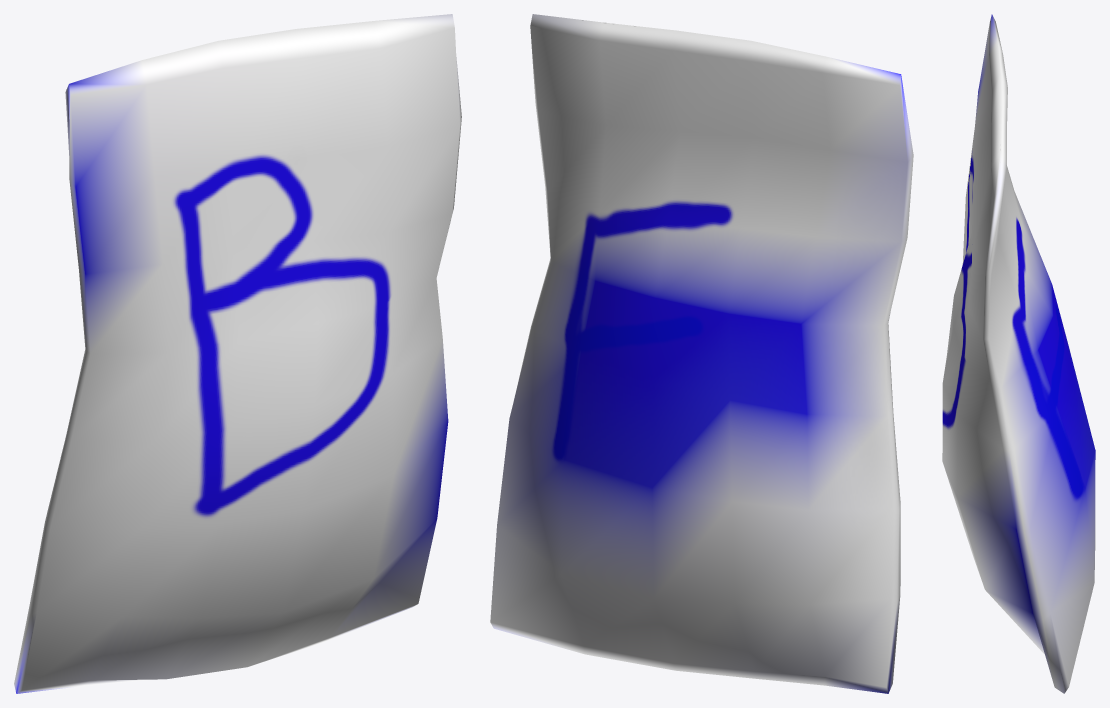
File: chips.glb
3 renders of one model, left to right at view 1: azimuth 30°, elevation 25°; view 2: azimuth 150°, elevation 25°; view 3: azimuth 270°, elevation 25°, orthographic. The views are drawn at different scales.
Parts seen in each view (by area): view 1: Cube; view 2: Cube; view 3: Cube.
Boxes of the visible parts, bbox=[...] form: Cube: bbox=[14, 14, 461, 693]; Cube: bbox=[490, 14, 913, 693]; Cube: bbox=[942, 14, 1095, 693].
Size of the model in its own units: 2.13 by 3.24 by 0.8378.
1 material, 1 textured.
